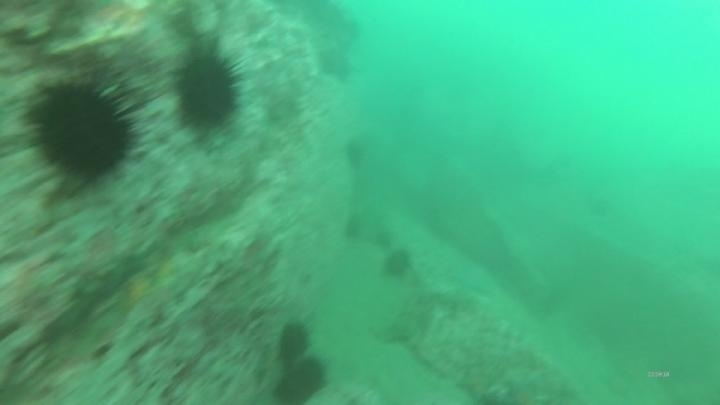echinus: (22, 73, 142, 190), (169, 42, 248, 137), (273, 354, 331, 404), (275, 318, 314, 364), (380, 246, 415, 282), (371, 222, 399, 252)
starfish: (453, 364, 503, 405), (313, 45, 357, 86)
